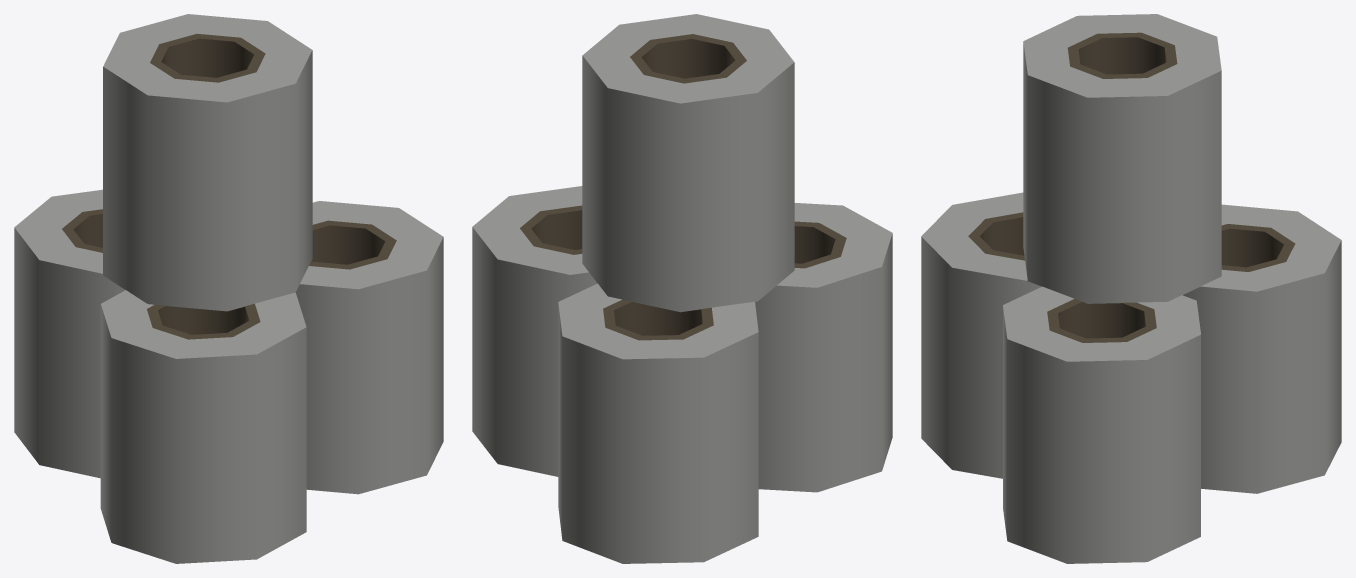
The model's file is Bathroom_ToiletPaperPile.glb.
3 renders of one model, left to right at view 1: azimuth 30°, elevation 25°; view 2: azimuth 150°, elevation 25°; view 3: azimuth 270°, elevation 25°, orthographic.
Parts seen in each view (by area): view 1: Bathroom_ToiletPaperPile; view 2: Bathroom_ToiletPaperPile; view 3: Bathroom_ToiletPaperPile.
Part boxes in pixels (left/top/right/bottom): Bathroom_ToiletPaperPile: left=14, top=14, right=443, bottom=563; Bathroom_ToiletPaperPile: left=472, top=14, right=892, bottom=563; Bathroom_ToiletPaperPile: left=921, top=14, right=1341, bottom=563.
Size of the model in its own units: 0.1636 by 0.1832 by 0.1711.
2 materials, 2 textured.
